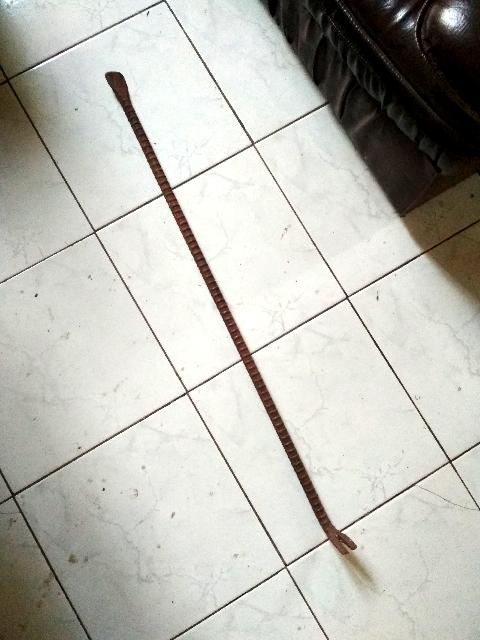crow bar: (98, 66, 358, 563)
